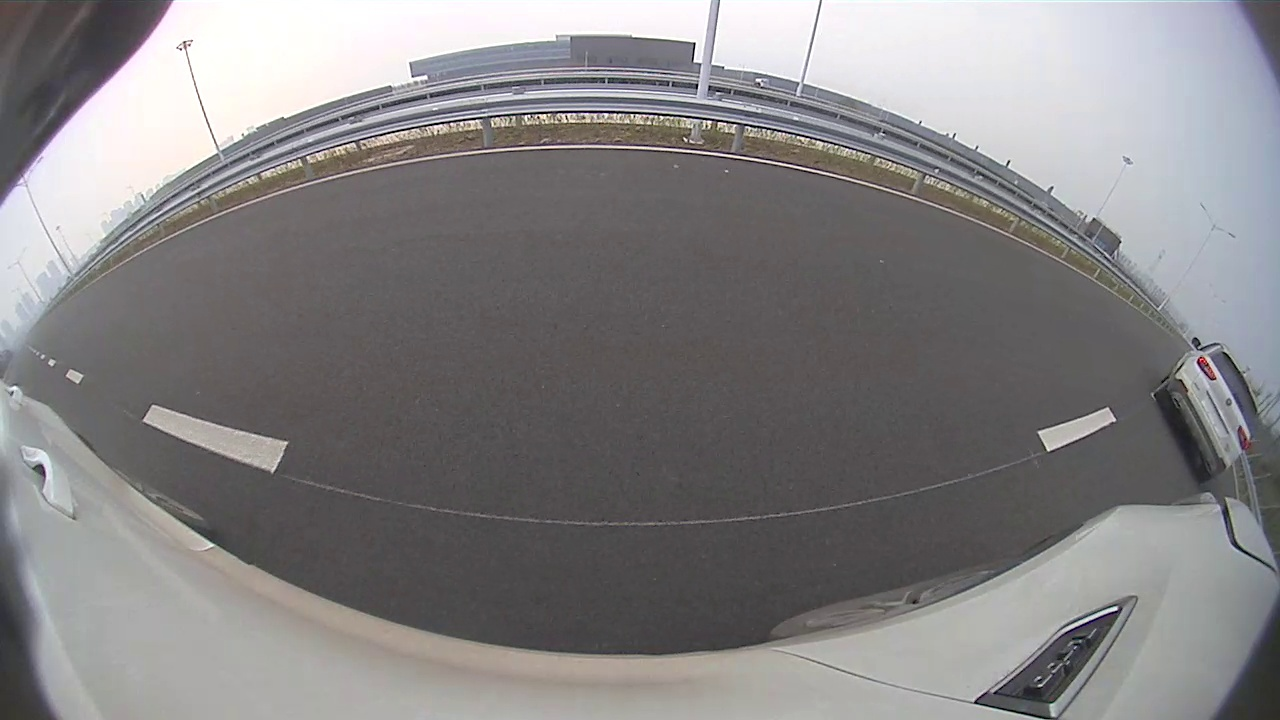car: (1153, 335, 1263, 483)
